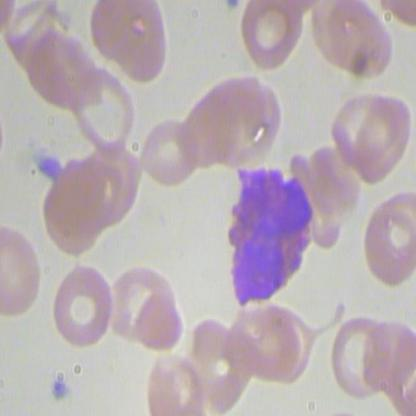Platelets: (43, 368, 71, 405), (33, 152, 65, 183)
RBC: (307, 1, 396, 82), (235, 301, 316, 386), (89, 1, 170, 85), (346, 93, 415, 185), (70, 67, 137, 159), (48, 261, 116, 350), (329, 311, 394, 401), (362, 187, 415, 295), (236, 1, 306, 72), (1, 224, 45, 320), (140, 116, 200, 186), (146, 350, 204, 415), (133, 288, 184, 348)
WBC: (219, 160, 320, 322)
